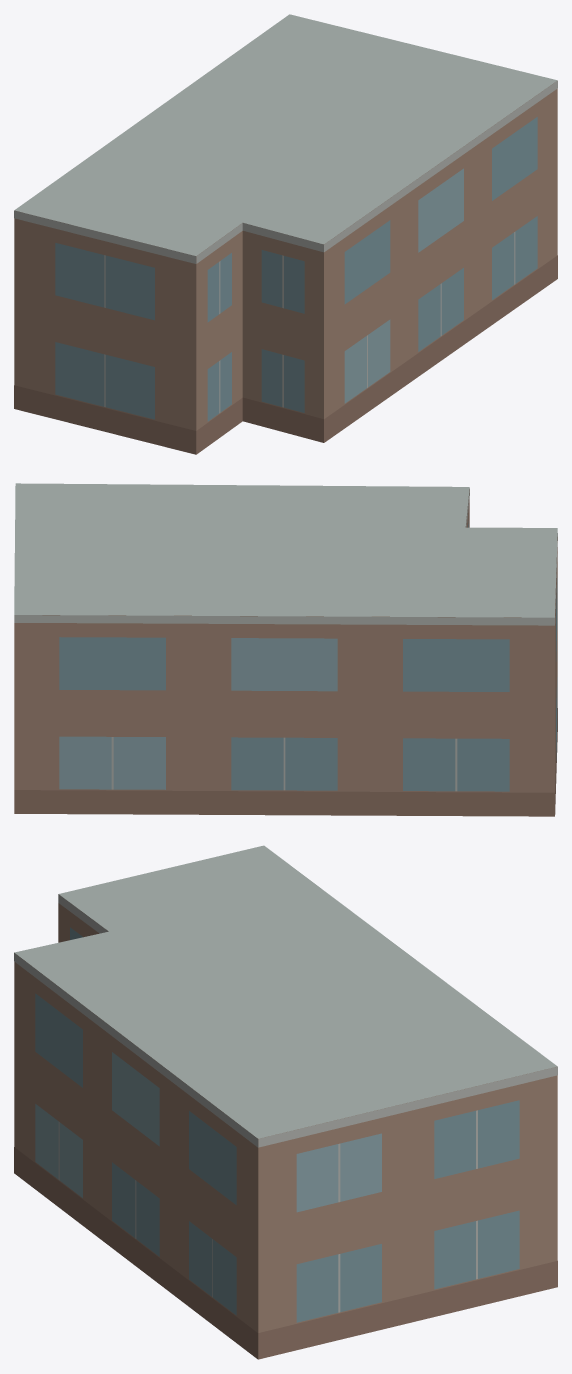
The model's file is survey-upis-32716747.glb.
The picture shows the model from 3 angles, top to bottom: view 1: azimuth 30°, elevation 25°; view 2: azimuth 150°, elevation 25°; view 3: azimuth 270°, elevation 25°; orthographic projection. The views are drawn at different scales.
Parts seen in each view (by area): view 1: survey-upis-32716747.tmp; view 2: survey-upis-32716747.tmp; view 3: survey-upis-32716747.tmp.
Part boxes in pixels (<box>): survey-upis-32716747.tmp: <box>14,14,557,454</box>; survey-upis-32716747.tmp: <box>14,483,557,816</box>; survey-upis-32716747.tmp: <box>14,845,557,1359</box>.
Size of the model in its own units: 17.41 by 6.1 by 13.63.
